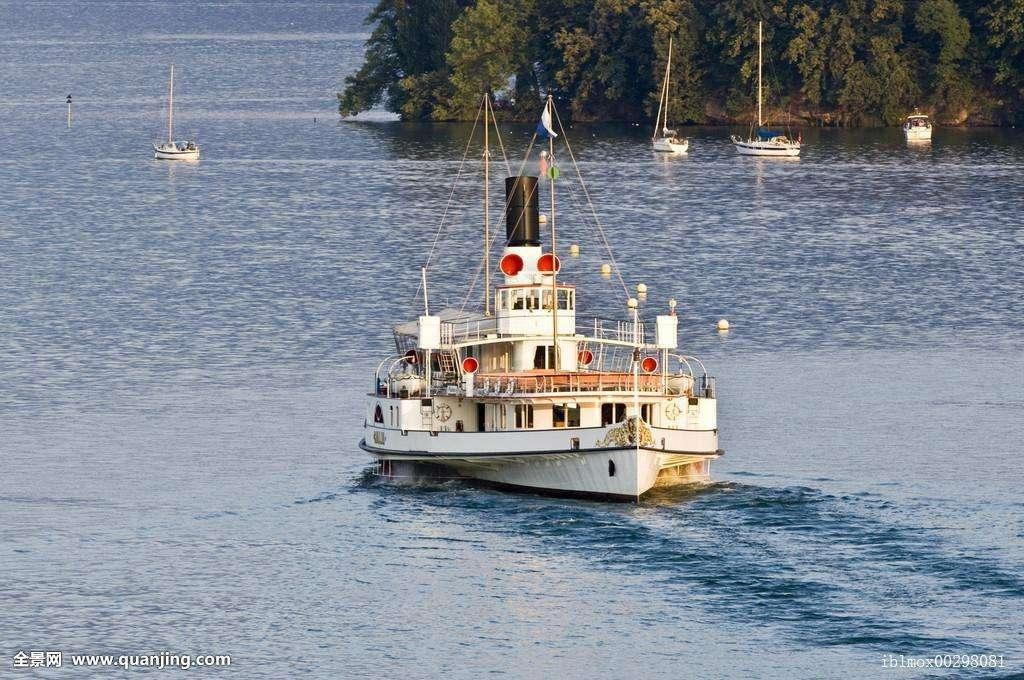otherboat: (348, 179, 728, 502), (728, 131, 814, 156), (148, 134, 205, 164), (900, 104, 937, 143), (644, 135, 691, 154)
